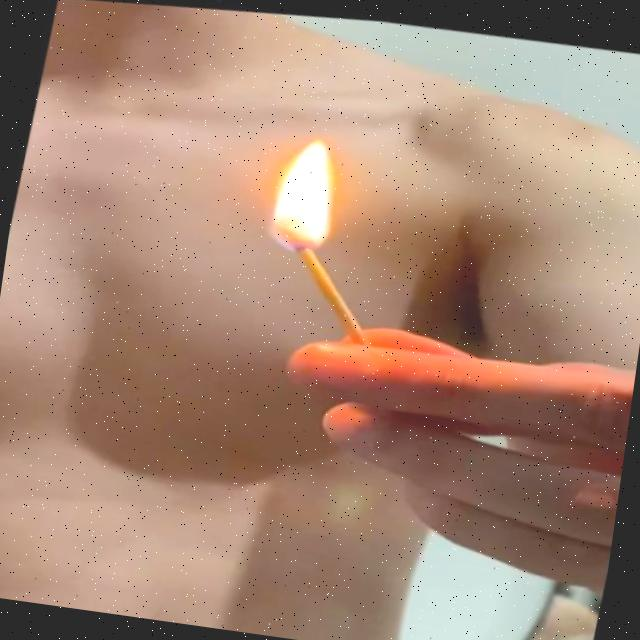fire: (259, 123, 349, 258)
